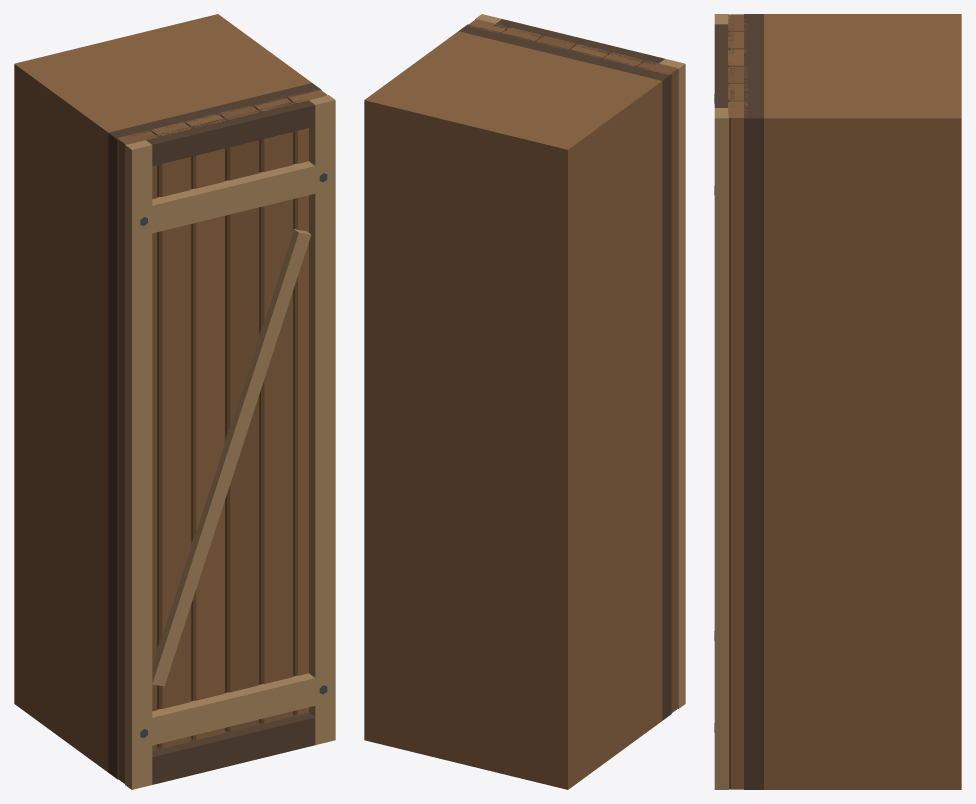
File: wall_barn_b.glb
3 renders of one model, left to right at view 1: azimuth 30°, elevation 25°; view 2: azimuth 150°, elevation 25°; view 3: azimuth 270°, elevation 25°, orthographic. The views are drawn at different scales.
Parts seen in each view (by area): view 1: face_front, geometry; view 2: geometry, face_front; view 3: geometry, face_front.
Boxes of the visible parts, bbox=[...] form: face_front: bbox=[108, 83, 335, 789]; geometry: bbox=[14, 14, 311, 772]; geometry: bbox=[364, 31, 662, 789]; face_front: bbox=[458, 14, 685, 720]; geometry: bbox=[764, 14, 961, 789]; face_front: bbox=[714, 14, 763, 789].
Bounding box in the file's own units: 1 × 3 × 1.
